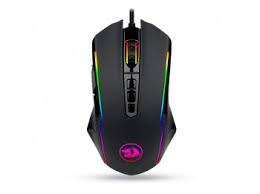mouse: (85, 17, 188, 184)
